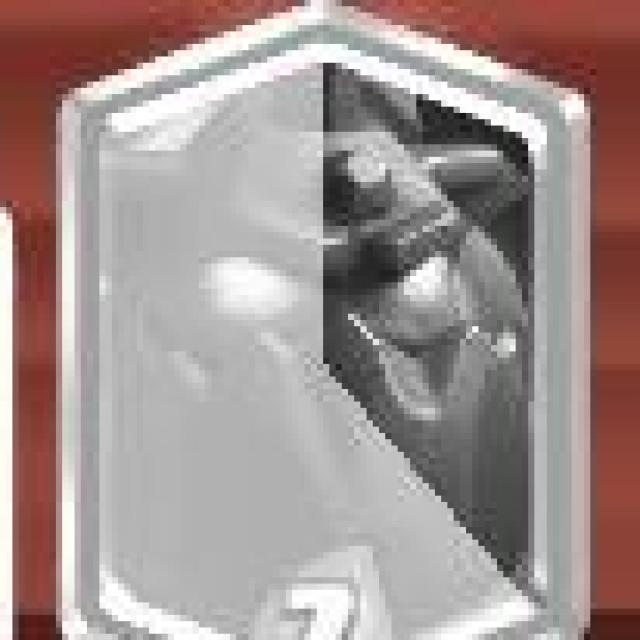Lava_Hound: (63, 5, 593, 640)
